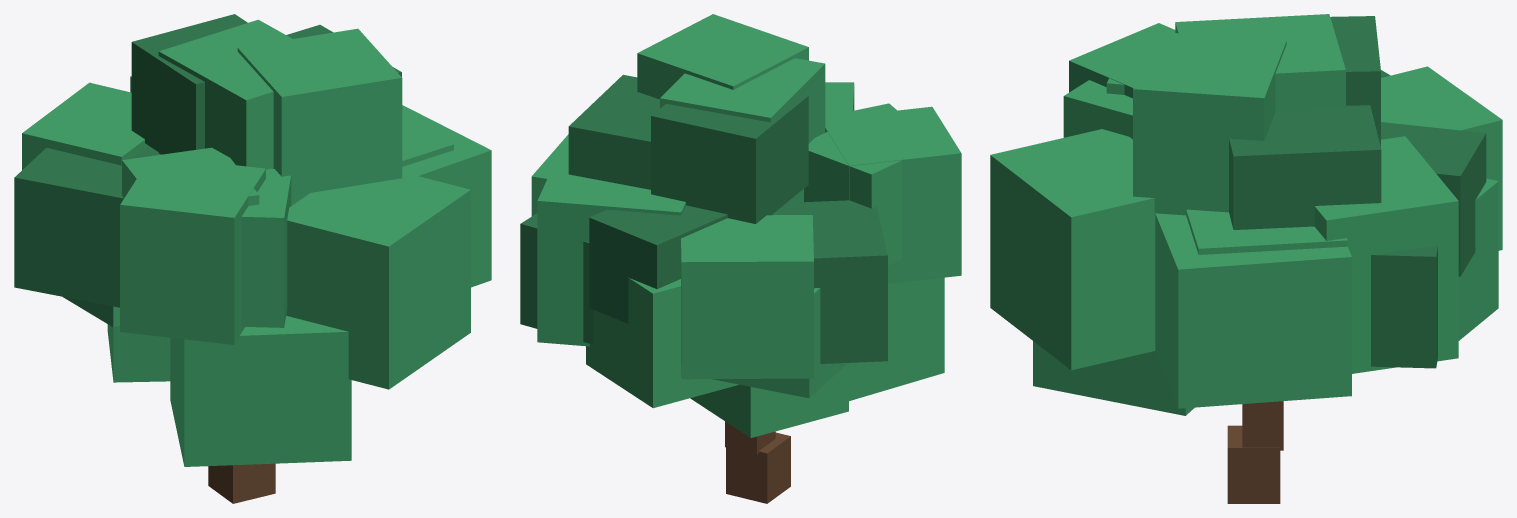
The model's file is treeRound.glb.
3 renders of one model, left to right at view 1: azimuth 30°, elevation 25°; view 2: azimuth 150°, elevation 25°; view 3: azimuth 270°, elevation 25°, orthographic. The views are drawn at different scales.
Parts seen in each view (by area): view 1: treeRound_leafMid, treeRound_leafDark, treeRound_bark; view 2: treeRound_leafMid, treeRound_leafDark, treeRound_bark; view 3: treeRound_leafMid, treeRound_leafDark, treeRound_bark.
Boxes of the visible parts, x1,y1,x2,y2 form: treeRound_leafMid: [22, 19, 491, 466]; treeRound_leafDark: [14, 14, 401, 307]; treeRound_bark: [208, 463, 275, 503]; treeRound_leafMid: [531, 14, 961, 437]; treeRound_leafDark: [520, 74, 887, 363]; treeRound_bark: [725, 421, 790, 503]; treeRound_leafMid: [990, 14, 1502, 415]; treeRound_leafDark: [1229, 16, 1486, 368]; treeRound_bark: [1227, 401, 1283, 503].
Size of the model in its own units: 9.26 by 9.58 by 9.72.
